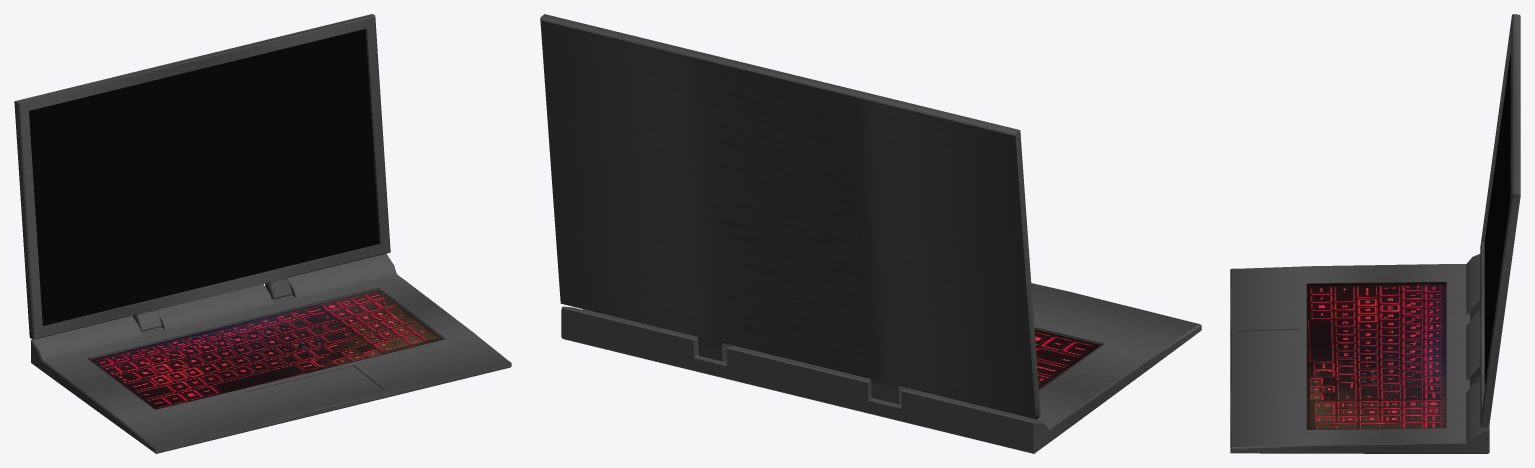
Rendered from laptopWithTexture.fbx.
3 views of the same model, side by side, from view 1: azimuth 30°, elevation 25°; view 2: azimuth 150°, elevation 25°; view 3: azimuth 270°, elevation 25° (orthographic). The views are drawn at different scales.
Visible parts, largest first — view 1: pCube6; view 2: pCube6; view 3: pCube6.
Boxes of the visible parts, <box> form: pCube6: <box>14,14,511,453</box>; pCube6: <box>540,14,1201,453</box>; pCube6: <box>1230,14,1520,453</box>.
Bounding box in the file's own units: 1.64 × 1.11 × 1.12.
Materials: 1 (1 with a texture image).
